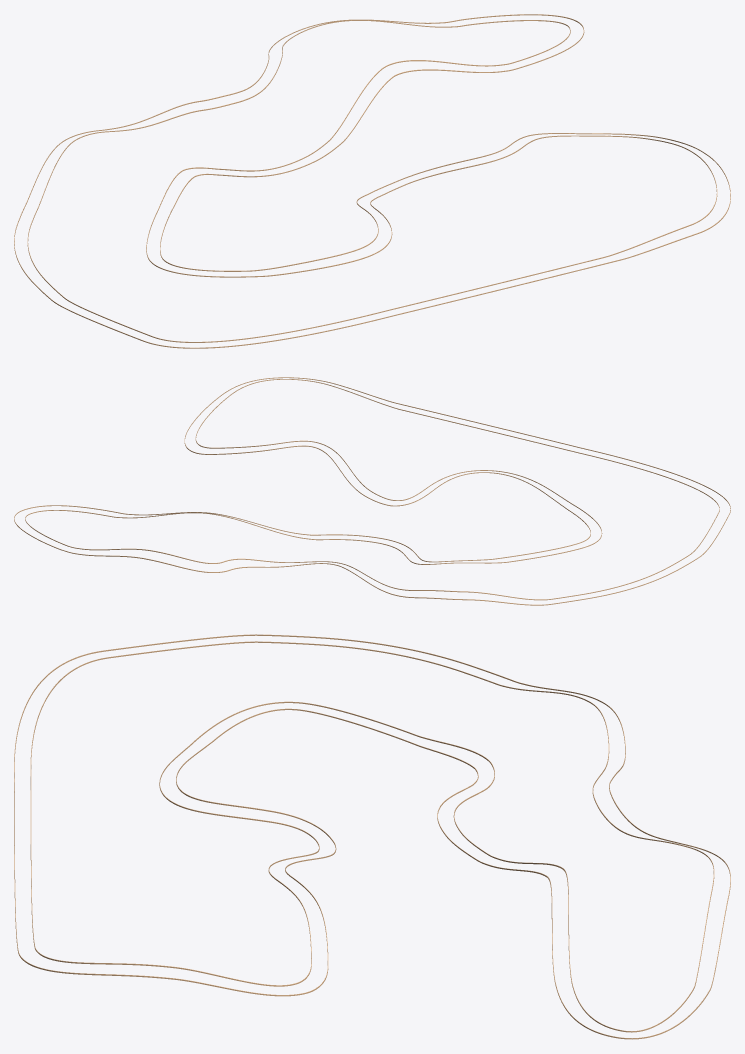
File: OpenRoadConcreteEdge.fbx
3 views of the same model, one above another, from view 1: azimuth 30°, elevation 25°; view 2: azimuth 150°, elevation 25°; view 3: azimuth 270°, elevation 25° (orthographic). The views are drawn at different scales.
Parts seen in each view (by area): view 1: ConcreteEdge; view 2: ConcreteEdge; view 3: ConcreteEdge.
Boxes of the visible parts, bbox=[...] form: ConcreteEdge: bbox=[14, 14, 730, 348]; ConcreteEdge: bbox=[14, 377, 730, 605]; ConcreteEdge: bbox=[14, 634, 730, 1039].
Bounding box in the file's own units: 158366 × 7099 × 118792.
